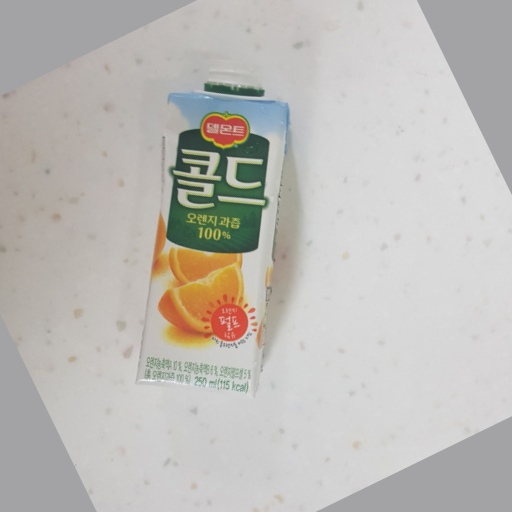Paper_0: (133, 77, 296, 403)
